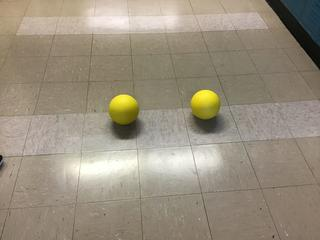power_cell: (105, 93, 141, 127), (188, 88, 222, 123)
